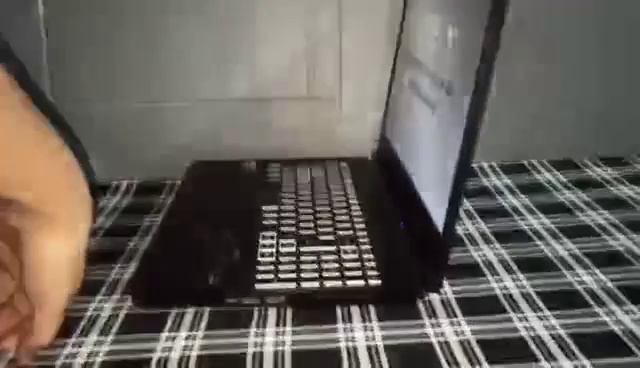laptop: (128, 1, 513, 305)
